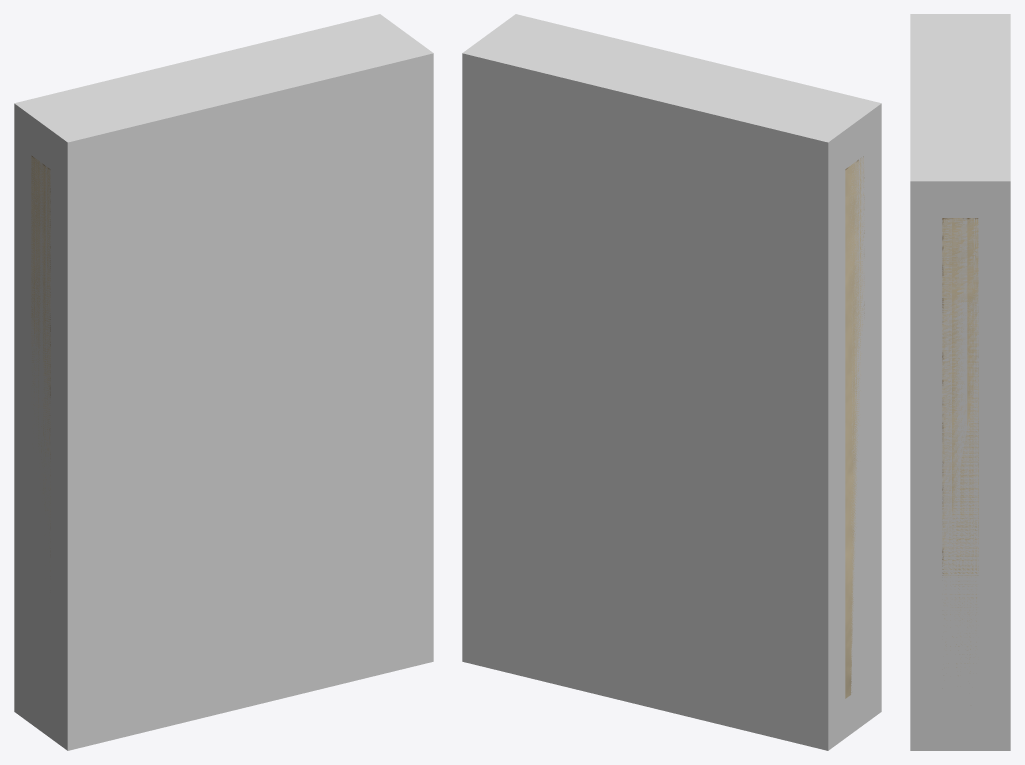
File: house_wall_upper.glb
3 renders of one model, left to right at view 1: azimuth 30°, elevation 25°; view 2: azimuth 150°, elevation 25°; view 3: azimuth 270°, elevation 25°, orthographic. The views are drawn at different scales.
Visible parts, largest first — view 1: COL_house_wall_upper_static_00, house_wall_upper_static; view 2: COL_house_wall_upper_static_00, house_wall_upper_static; view 3: COL_house_wall_upper_static_00, house_wall_upper_static.
Part boxes in pixels (x1,y1,x2,y2): COL_house_wall_upper_static_00: (14,14,433,750); house_wall_upper_static: (31,155,50,570); COL_house_wall_upper_static_00: (462,14,881,750); house_wall_upper_static: (845,156,864,698); COL_house_wall_upper_static_00: (910,14,1010,750); house_wall_upper_static: (942,218,978,675).
Size of the model in its own units: 1.75 by 2.78 by 0.4443.
3 materials, 3 textured.
